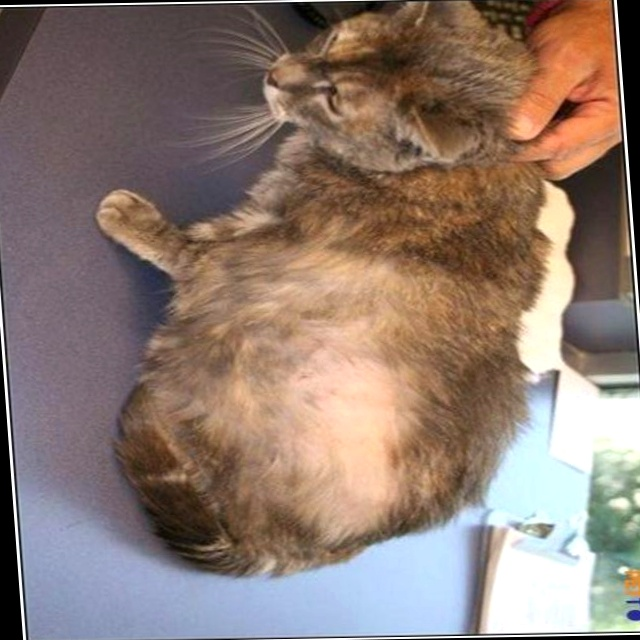hairloss: (295, 339, 415, 529)
